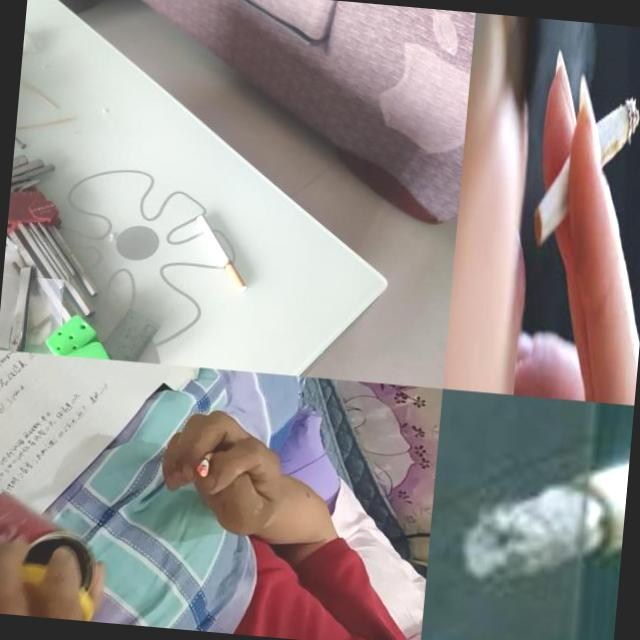smoke: (458, 391, 634, 599), (533, 89, 640, 253), (190, 212, 253, 294), (196, 451, 214, 478)
